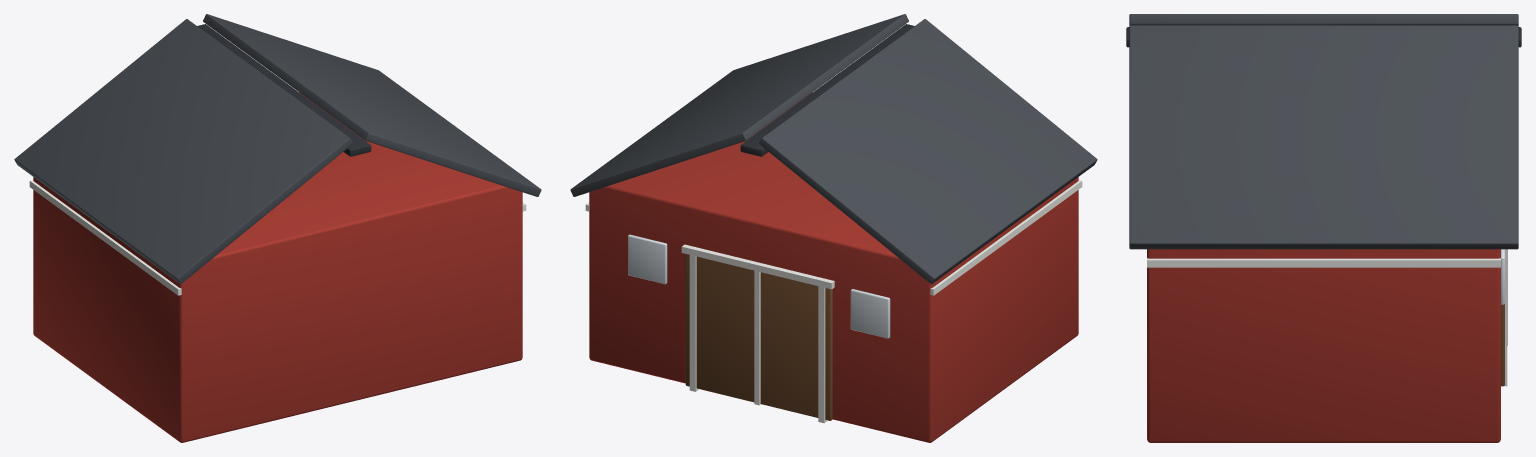
Rendered from barn.glb.
3 renders of one model, left to right at view 1: azimuth 30°, elevation 25°; view 2: azimuth 150°, elevation 25°; view 3: azimuth 270°, elevation 25°, orthographic. The views are drawn at different scales.
Parts seen in each view (by area): view 1: Body, Roof; view 2: Body, Roof; view 3: Roof, Body.
Part boxes in pixels (x1=…): Body: x1=29, y1=92, x2=526, y2=442; Roof: x1=14, y1=14, x2=541, y2=284; Body: x1=585, y1=92, x2=1082, y2=442; Roof: x1=570, y1=14, x2=1097, y2=284; Roof: x1=1126, y1=14, x2=1521, y2=249; Body: x1=1147, y1=249, x2=1507, y2=442.
Size of the model in its own units: 8.51 by 6.12 by 6.7.
